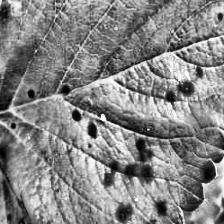Leaf Spot: (0, 0, 224, 224), (0, 118, 121, 224)
